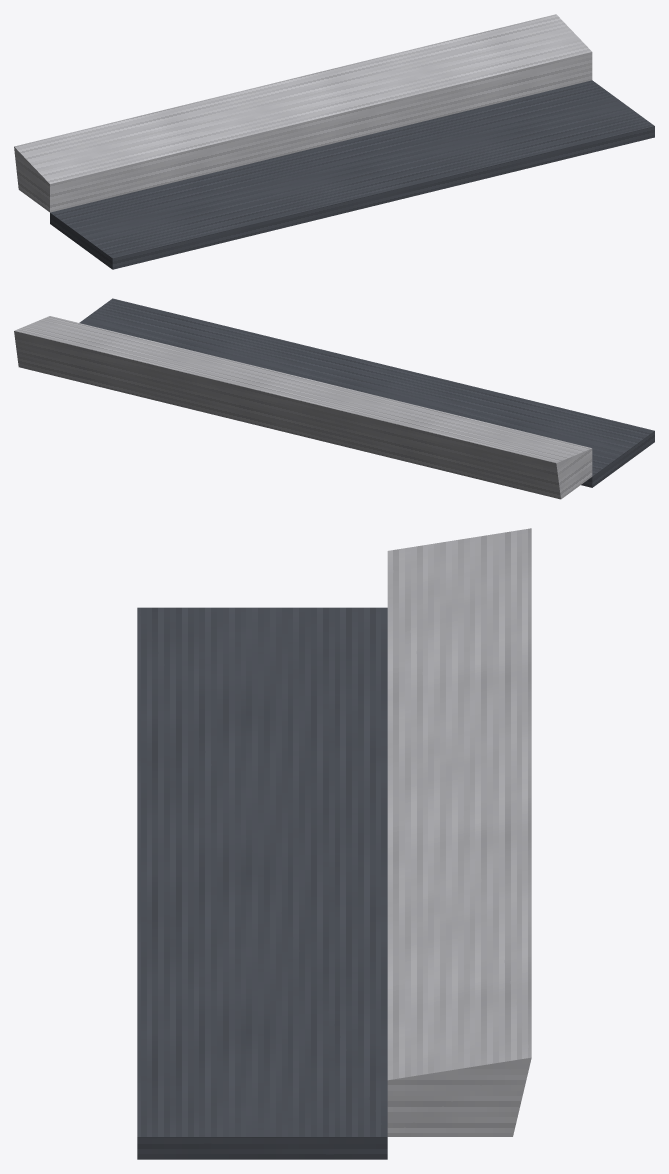
File: aerofolio_fabrica.glb
3 renders of one model, top to bottom at view 1: azimuth 30°, elevation 25°; view 2: azimuth 150°, elevation 25°; view 3: azimuth 270°, elevation 25°, orthographic. The views are drawn at different scales.
Parts seen in each view (by area): view 1: aerofolio_fabrica; view 2: aerofolio_fabrica; view 3: aerofolio_fabrica.
Boxes of the visible parts, x1,y1,x2,y2 form: aerofolio_fabrica: [14, 14, 654, 269]; aerofolio_fabrica: [14, 298, 654, 499]; aerofolio_fabrica: [137, 528, 531, 1159].
Size of the model in its own units: 1 by 0.09 by 0.315.
1 material, 1 textured.
